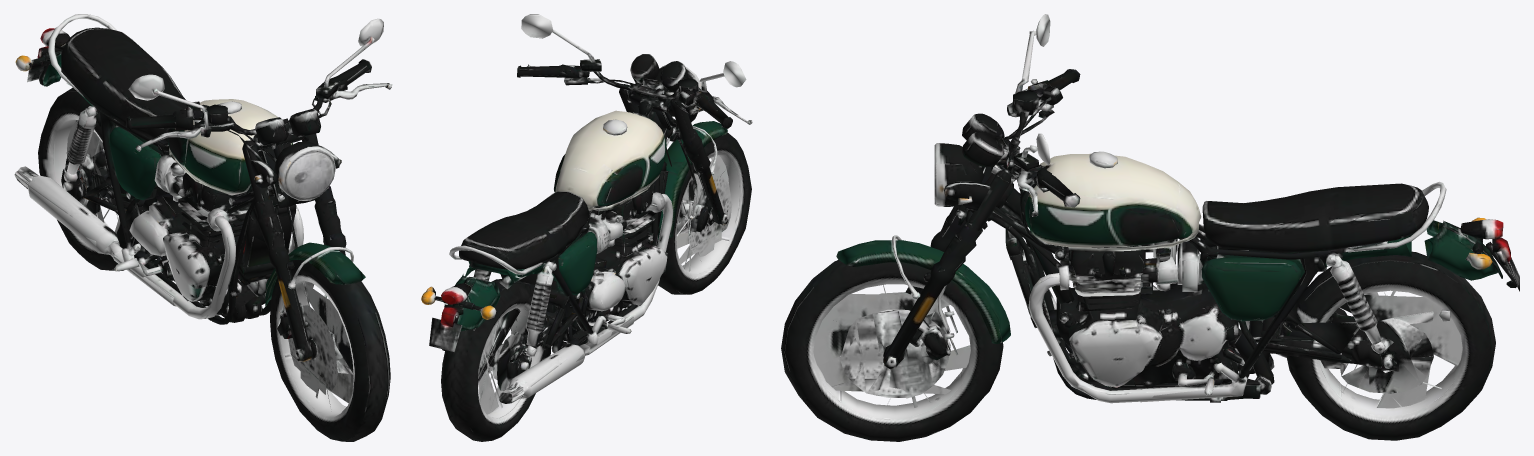
Rendered from moto_vintage.glb.
The picture shows the model from 3 angles, left to right: view 1: azimuth 30°, elevation 25°; view 2: azimuth 150°, elevation 25°; view 3: azimuth 270°, elevation 25°; orthographic projection. The views are drawn at different scales.
Visible parts, largest first — view 1: prop; view 2: prop; view 3: prop.
Part boxes in pixels (x1,y1,x2,y2): prop: [14, 14, 392, 441]; prop: [421, 14, 752, 441]; prop: [781, 14, 1519, 441].
Bounding box in the file's own units: 0.8685 × 1.09 × 2.
1 material, 1 textured.
